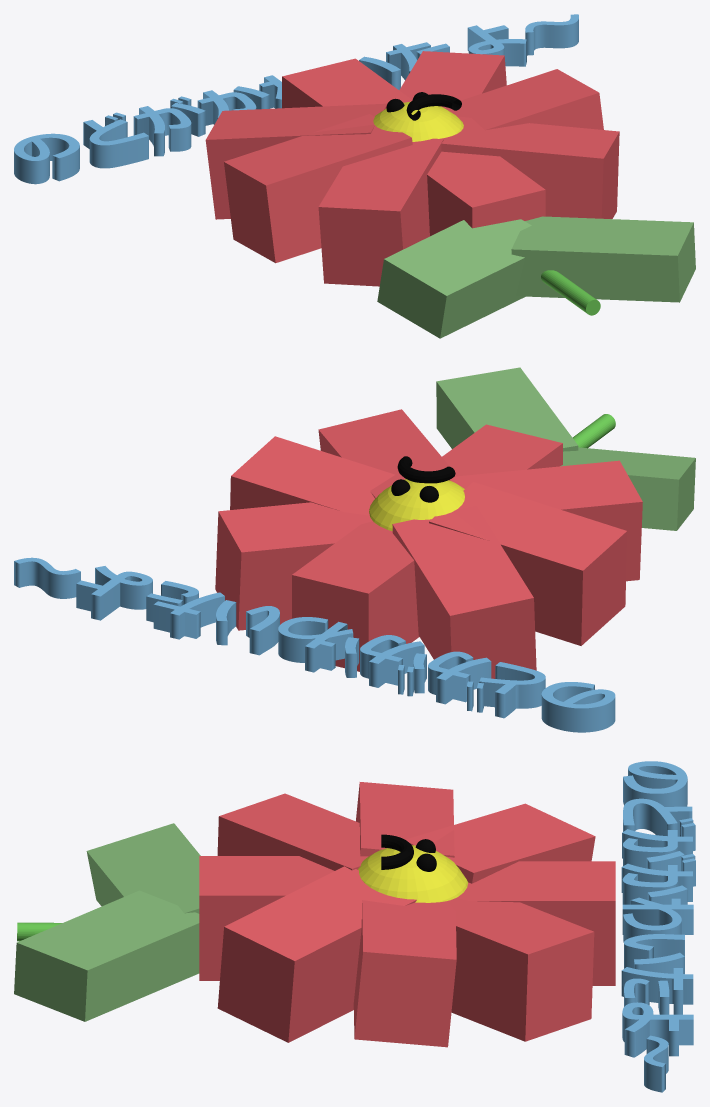
File: DRY.glb
3 renders of one model, top to bottom at view 1: azimuth 30°, elevation 25°; view 2: azimuth 150°, elevation 25°; view 3: azimuth 270°, elevation 25°, orthographic. The views are drawn at different scales.
Visible parts, largest first — view 1: テキスト, 立方体.008, 立方体.002, 立方体.005, 立方体.009, 立方体.006, 立方体.003, 立方体.007, 立方体.001, 立方体, 立方体.004, 球 (+2 smaller); view 2: テキスト, 立方体.002, 立方体.007, 立方体, 立方体.004, 立方体.001, 立方体.005, 立方体.008, 立方体.006, 立方体.009, 立方体.003, 球 (+2 smaller); view 3: テキスト, 立方体.006, 立方体.004, 立方体.008, 立方体.001, 立方体, 立方体.005, 立方体.003, 立方体.007, 立方体.009, 立方体.002, 球 (+1 smaller).
Boxes of the visible parts, bbox=[...] form: テキスト: bbox=[14, 14, 578, 184]; 立方体.008: bbox=[511, 216, 695, 302]; 立方体.002: bbox=[224, 114, 412, 263]; 立方体.005: bbox=[318, 138, 443, 286]; 立方体.009: bbox=[377, 219, 531, 338]; 立方体.006: bbox=[440, 116, 619, 218]; 立方体.003: bbox=[427, 151, 545, 236]; 立方体.007: bbox=[205, 103, 387, 219]; 立方体.001: bbox=[443, 69, 603, 130]; 立方体: bbox=[282, 58, 412, 108]; 立方体.004: bbox=[399, 51, 506, 107]; 球: bbox=[373, 101, 463, 141]; テキスト: bbox=[14, 557, 615, 732]; 立方体.002: bbox=[429, 482, 627, 645]; 立方体.007: bbox=[392, 506, 536, 678]; 立方体: bbox=[292, 521, 419, 671]; 立方体.004: bbox=[215, 502, 372, 630]; 立方体.001: bbox=[230, 436, 394, 515]; 立方体.005: bbox=[449, 460, 642, 581]; 立方体.008: bbox=[436, 367, 578, 451]; 立方体.006: bbox=[318, 409, 457, 498]; 立方体.009: bbox=[560, 447, 695, 530]; 立方体.003: bbox=[442, 424, 562, 476]; 球: bbox=[369, 479, 464, 531]; テキスト: bbox=[621, 761, 695, 1092]; 立方体.006: bbox=[217, 866, 416, 1042]; 立方体.004: bbox=[447, 898, 594, 1041]; 立方体.008: bbox=[14, 890, 199, 1021]; 立方体.001: bbox=[353, 900, 456, 1047]; 立方体: bbox=[456, 861, 615, 985]; 立方体.005: bbox=[217, 793, 368, 870]; 立方体.003: bbox=[199, 856, 334, 980]; 立方体.007: bbox=[405, 803, 595, 883]; 立方体.009: bbox=[86, 823, 200, 913]; 立方体.002: bbox=[356, 782, 454, 857]; 球: bbox=[357, 845, 468, 902].
Size of the model in its own units: 7.7 by 1.62 by 7.26.
